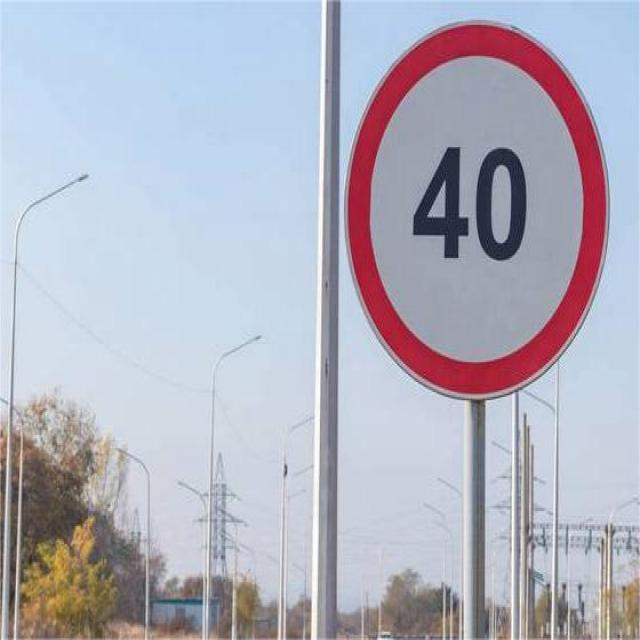speed limit 40: (345, 18, 609, 403)
